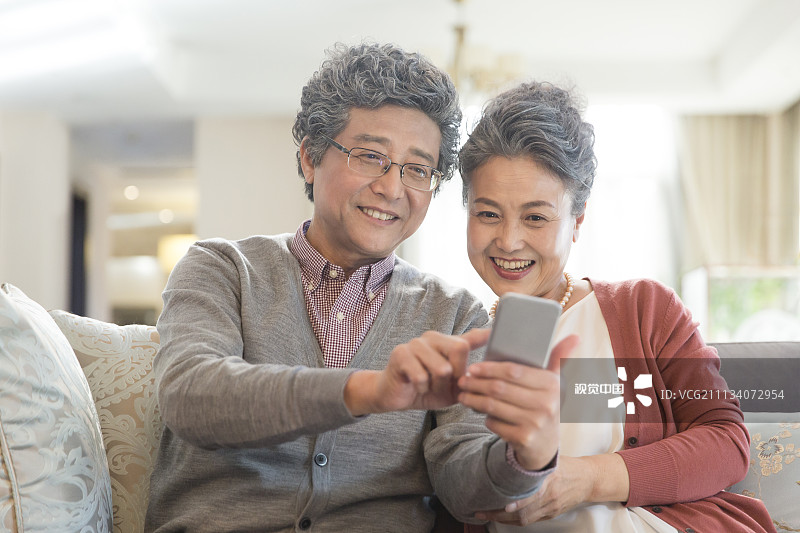reading: (355, 286, 587, 468)
